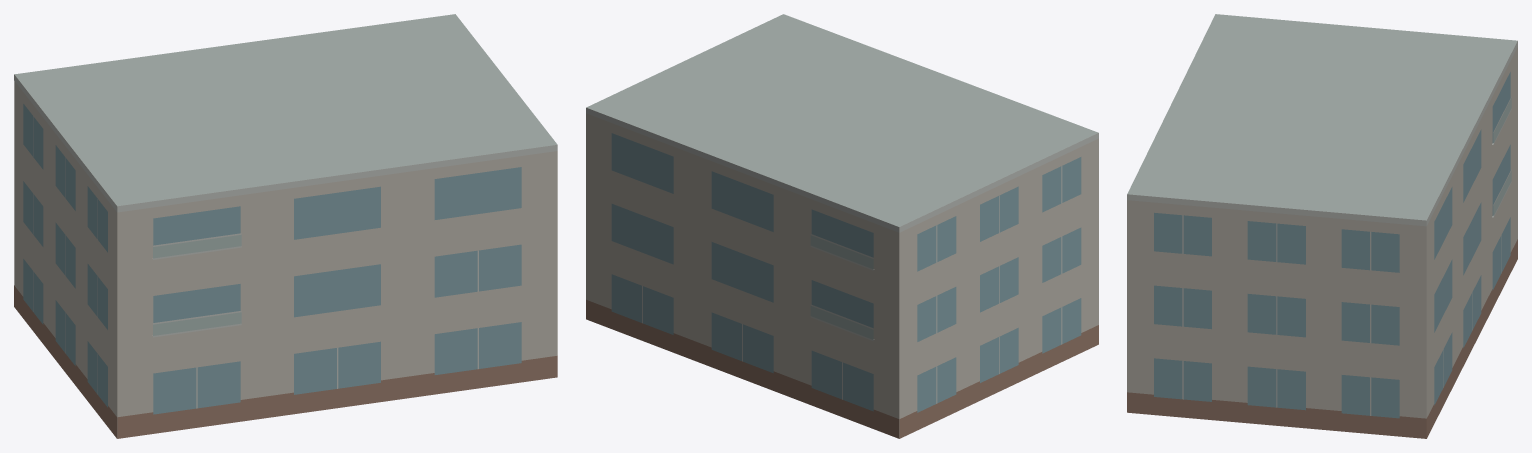
The model's file is survey-upis-32481102.glb.
3 renders of one model, left to right at view 1: azimuth 30°, elevation 25°; view 2: azimuth 150°, elevation 25°; view 3: azimuth 270°, elevation 25°, orthographic. The views are drawn at different scales.
Visible parts, largest first — view 1: survey-upis-32481102.tmp; view 2: survey-upis-32481102.tmp; view 3: survey-upis-32481102.tmp.
Boxes of the visible parts, x1=… form: survey-upis-32481102.tmp: x1=14, y1=14, x2=557, y2=438; survey-upis-32481102.tmp: x1=586, y1=14, x2=1098, y2=438; survey-upis-32481102.tmp: x1=1127, y1=14, x2=1517, y2=438.
Size of the model in its own units: 18.57 by 9.15 by 14.85.
